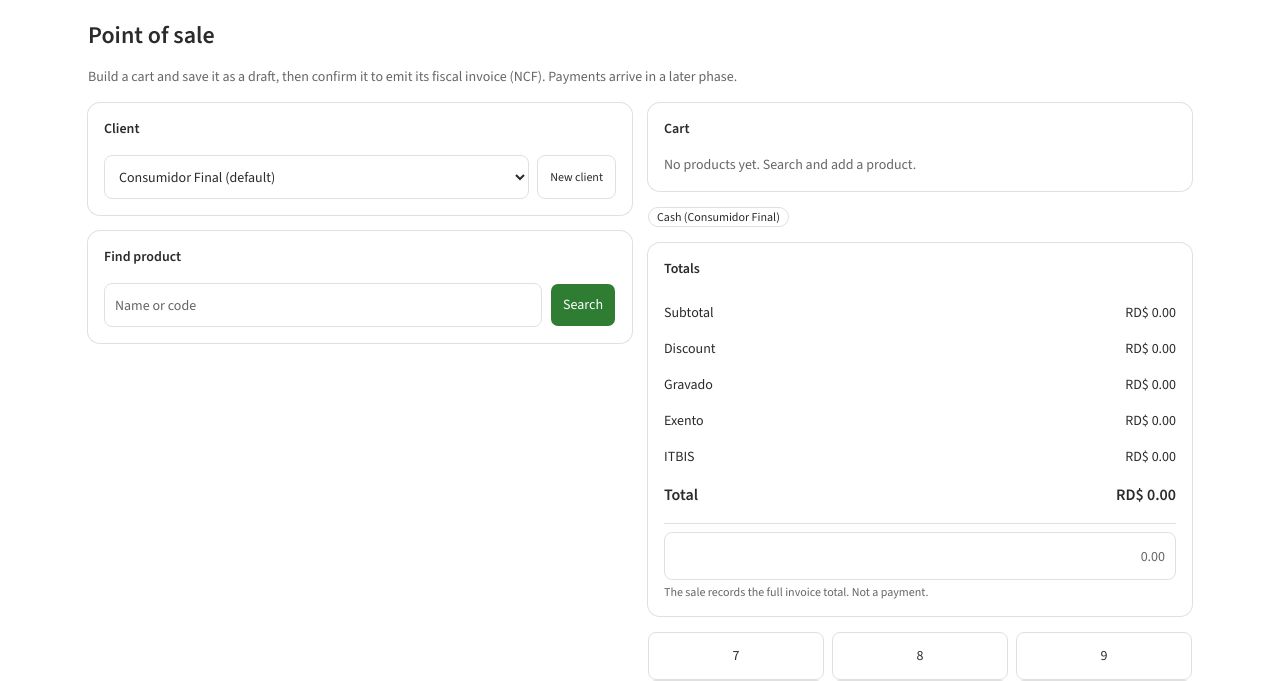
Test: PosScreen (R-V14) › disables 'Save draft' while the cart is empty and enables it after adding
The width and height of the screenshot is (1280, 681).
Step 1. Type "arroz" into the field named "Search products" → (323, 305), box [104, 283, 542, 327]
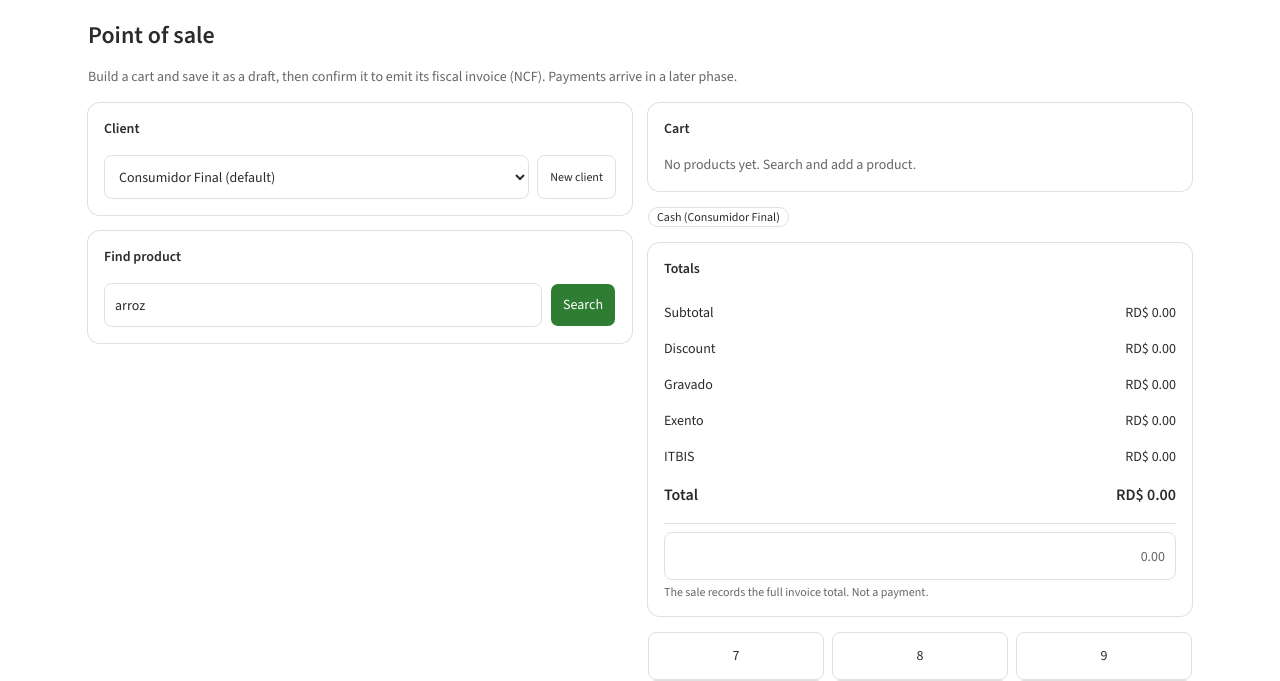
Step 2. Click the button "Search" → (583, 305), box [550, 283, 616, 327]
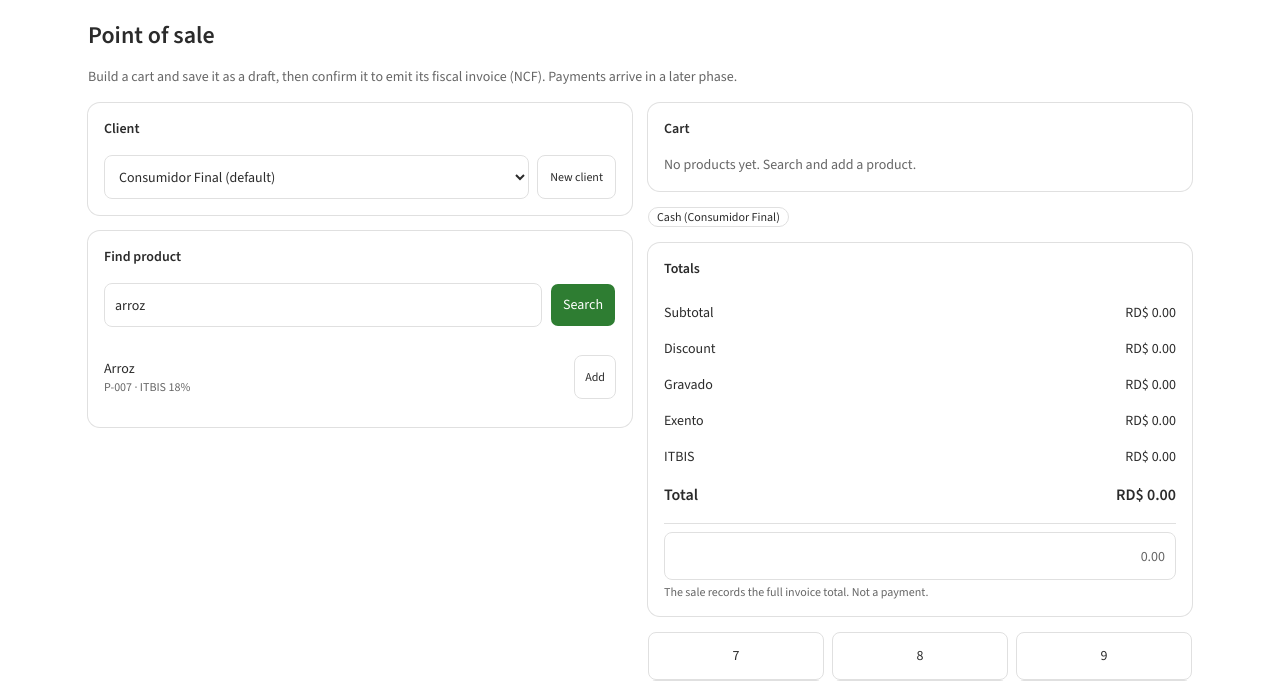
Step 3. Click the button "Add" → (595, 377), box [574, 355, 616, 399]
(page scrolled)
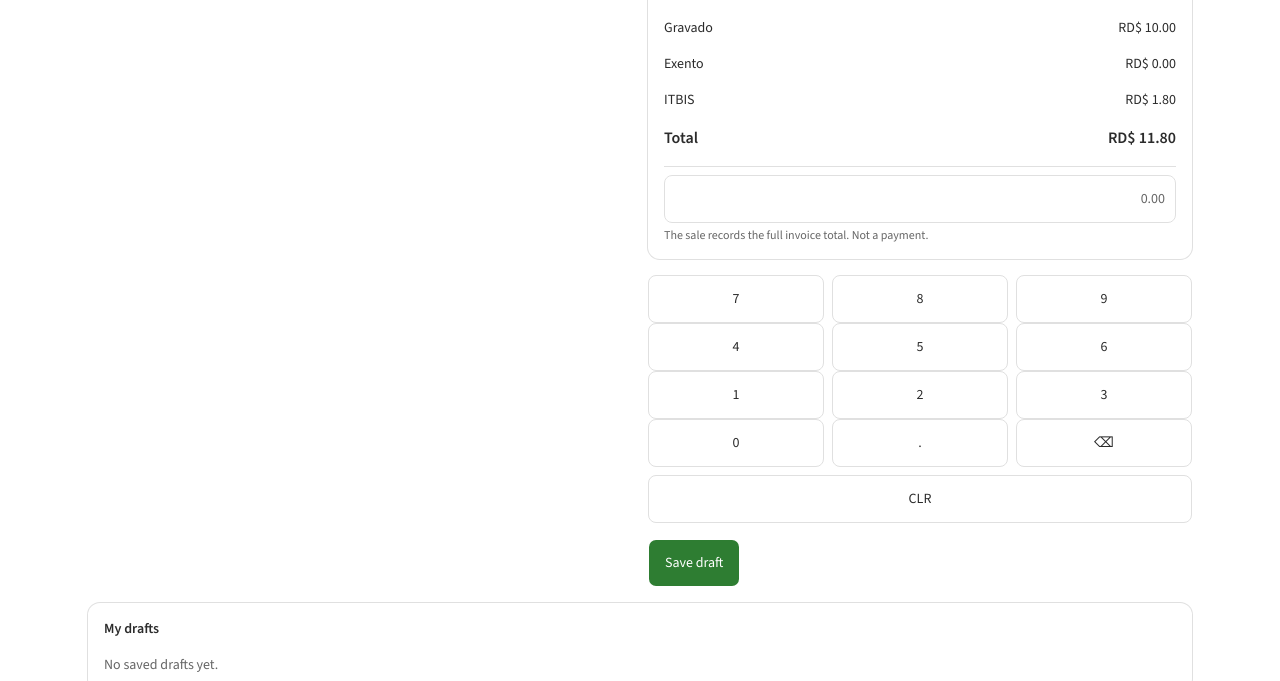
Expected: the button "Save draft" is enabled, [648, 538, 740, 586]
